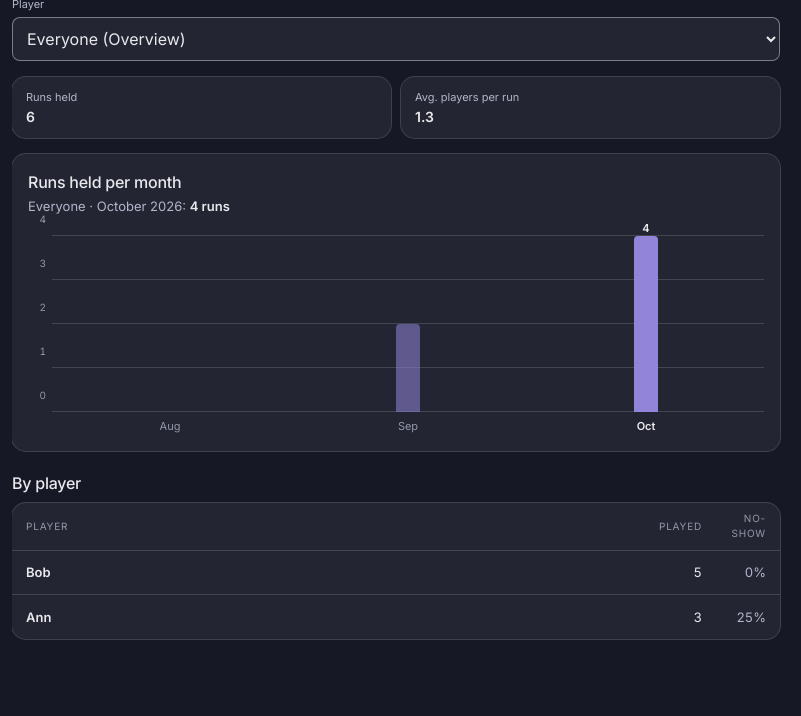
Scenario: StatsView player › loads older runs from where the list left off
Select "Ann" in the dropdown: (396, 39) [12,17,780,61]
(page scrolled)
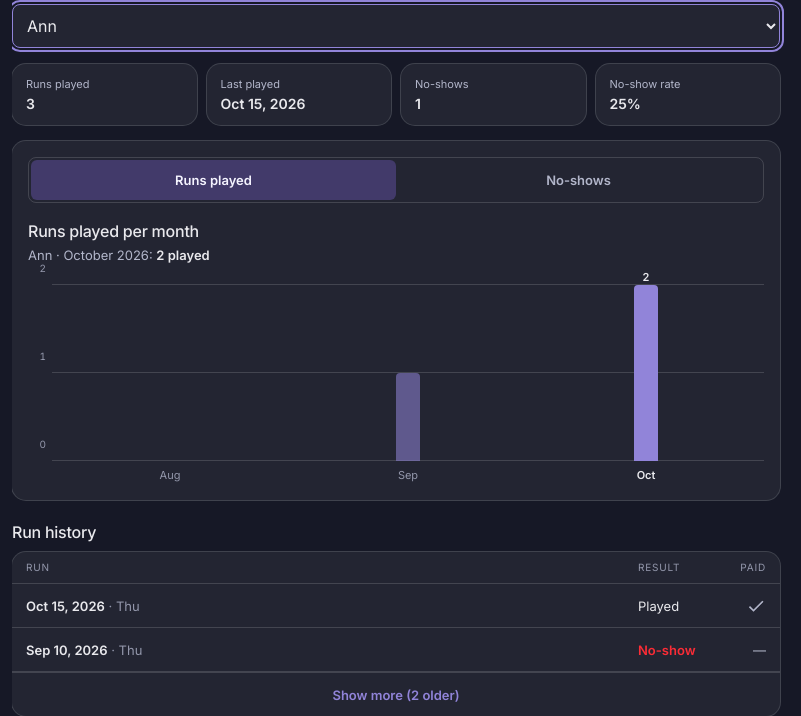
Click the button "Show more (2 older)": (396, 694) [12,672,780,715]
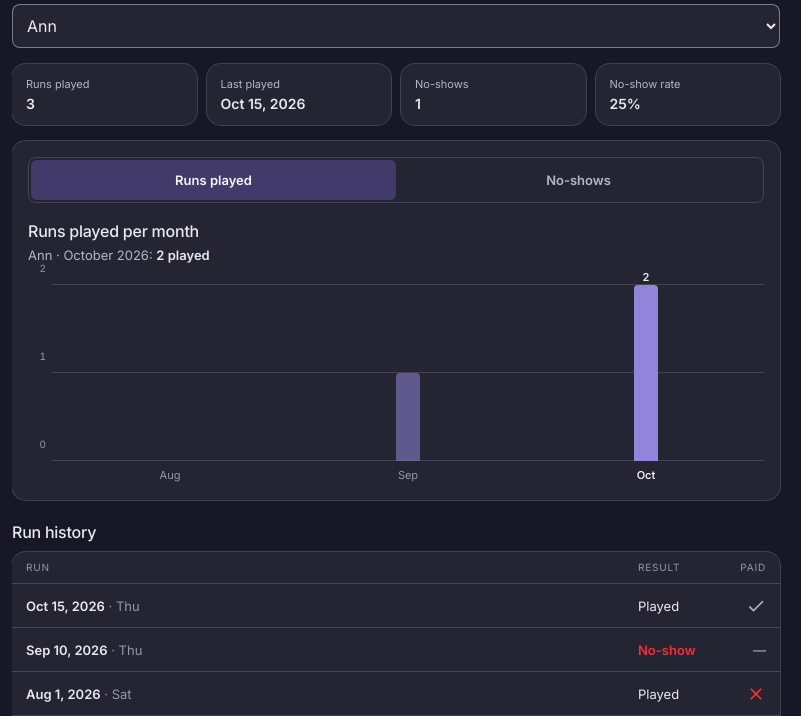
Result: the link "Aug 1, 2026 · Sat Played" is shown at [12,672,780,715]
